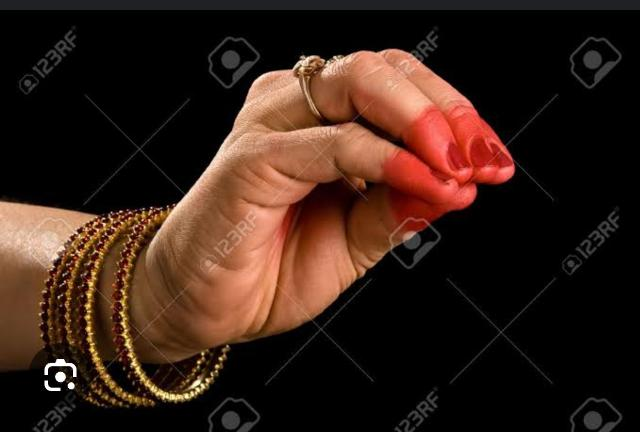mukul: (40, 50, 518, 432)
